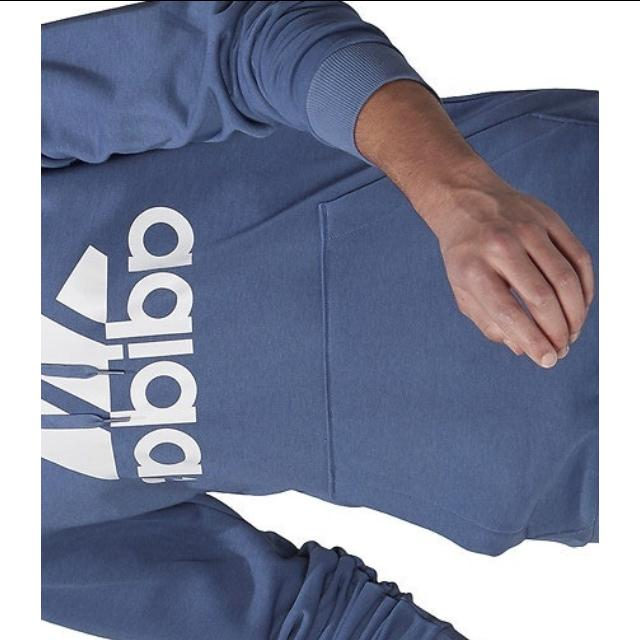cotton: (41, 1, 376, 630)
